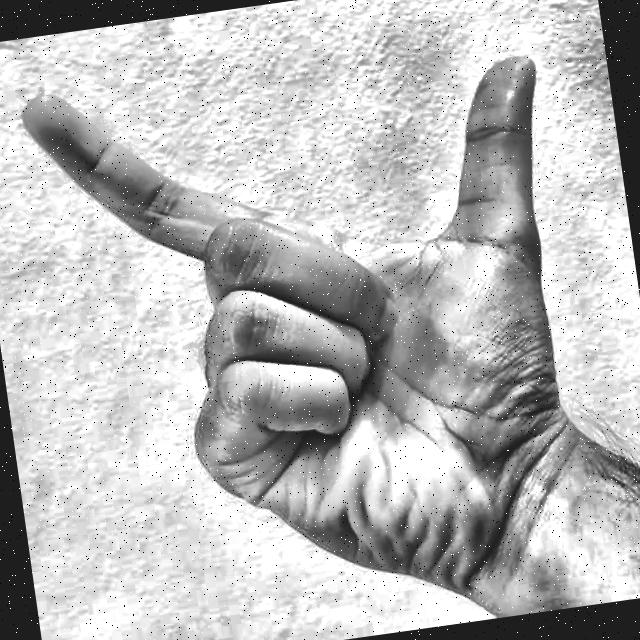ChandraBindu: (10, 0, 640, 640)
